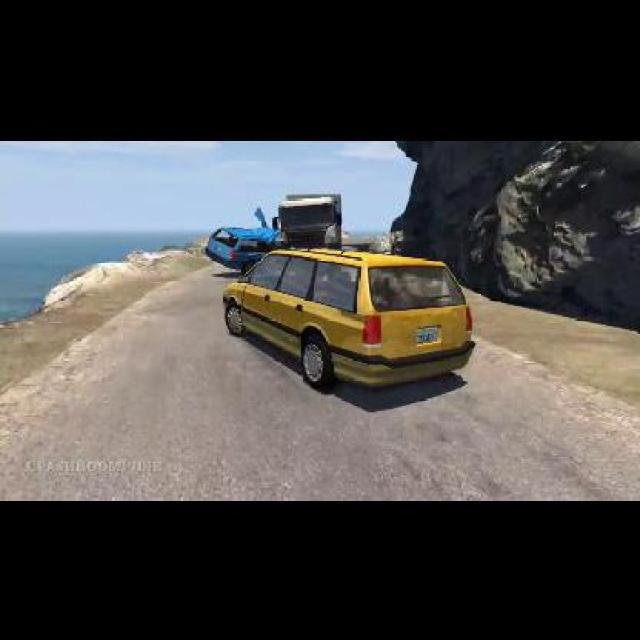accident: (200, 190, 348, 276)
